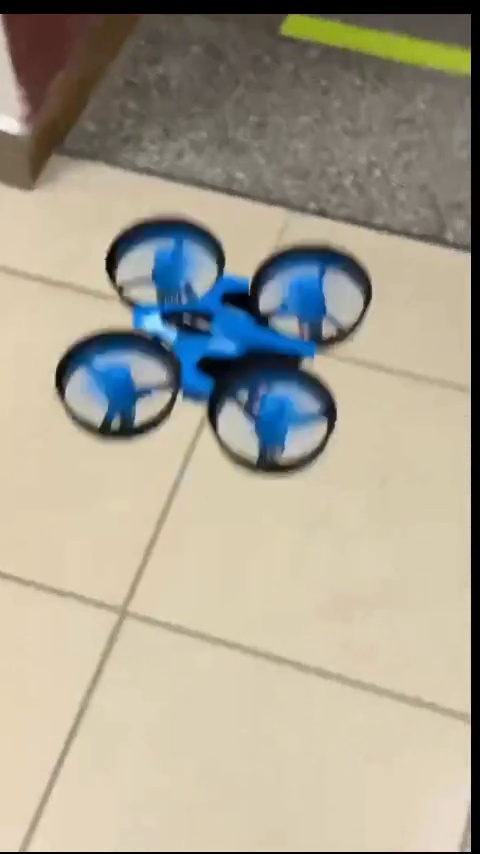drone: (56, 219, 373, 472)
